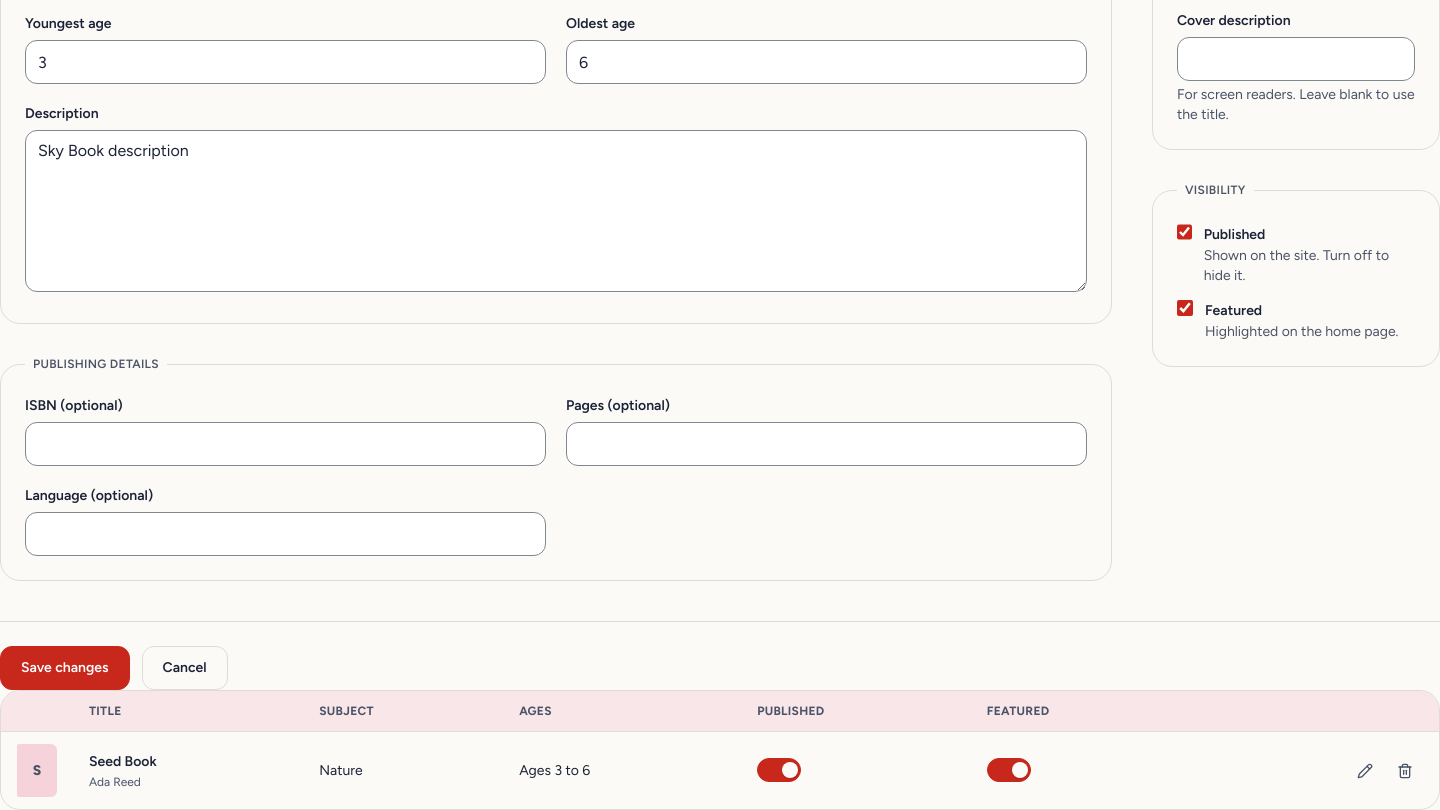
admin books a11y › binds every label, gives every control a focus class and an accessible name
This screenshot has width=1440, height=810.
(page scrolled)
Click the button named "Delete Seed Book" at (1405,771), box [1387, 753, 1423, 789]
(page scrolled)
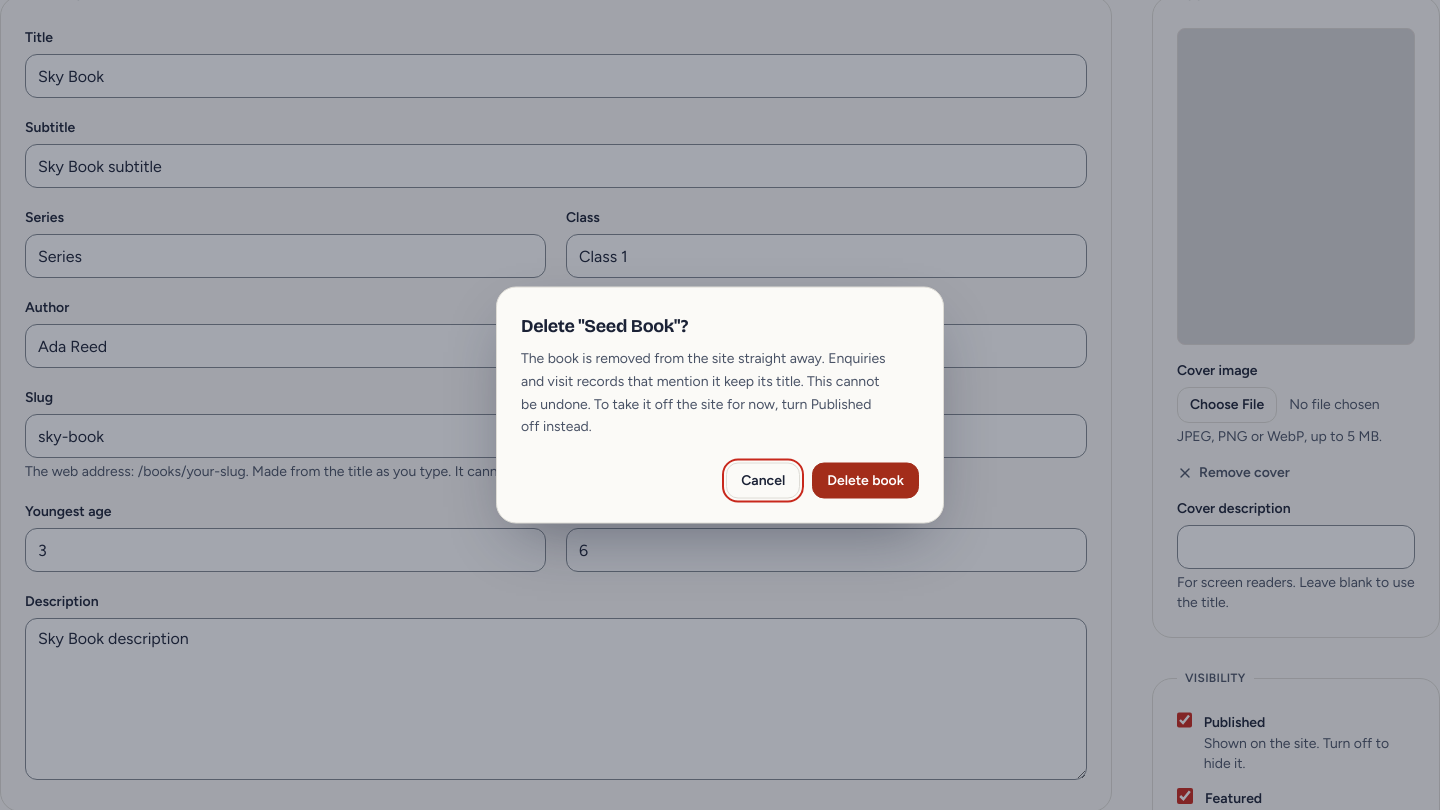
expect the dialog is shown: met, box [496, 286, 944, 524]
